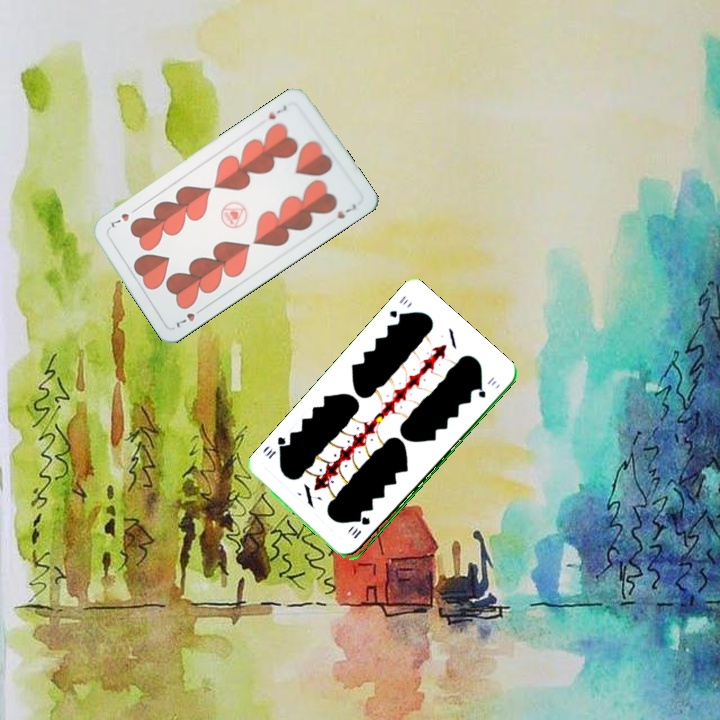G10: (386, 292, 411, 322), (349, 513, 373, 541)
H7: (170, 303, 207, 331), (264, 101, 290, 122)
